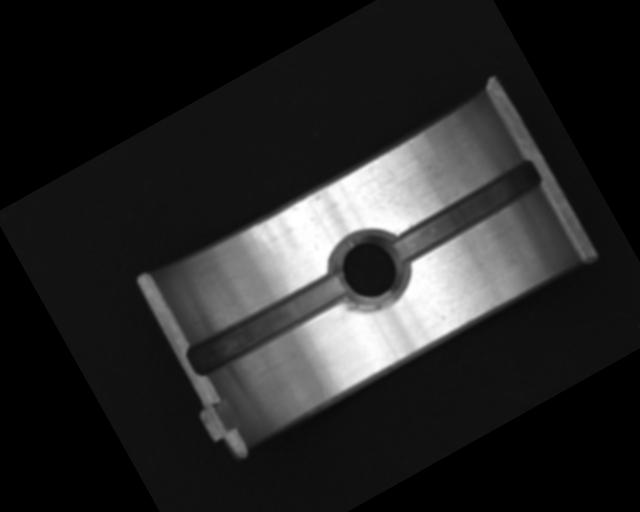gap: (182, 264, 351, 383), (386, 158, 546, 265)
hole: (315, 213, 425, 326)
